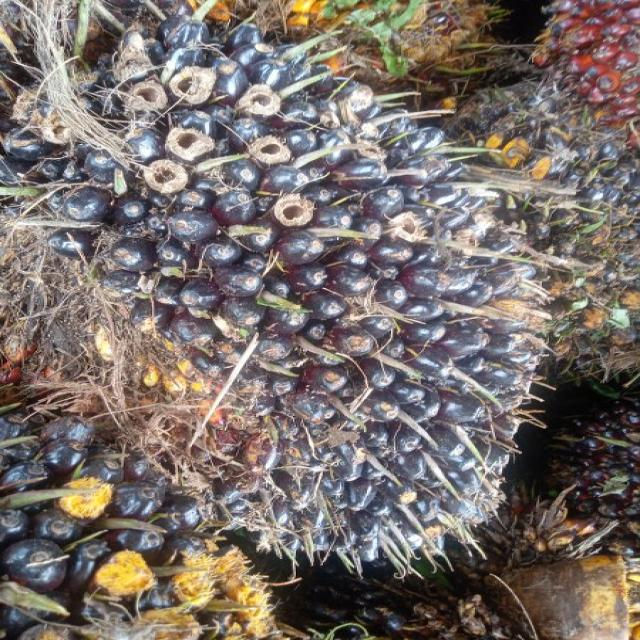fraksi 00: (28, 29, 540, 555)
